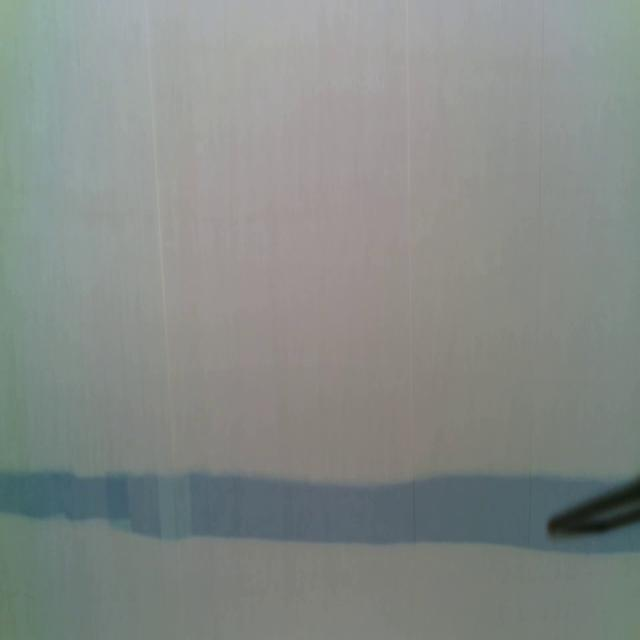color bleeding: (0, 462, 547, 554)
crease: (144, 2, 177, 476), (404, 0, 419, 461), (534, 2, 547, 348)
